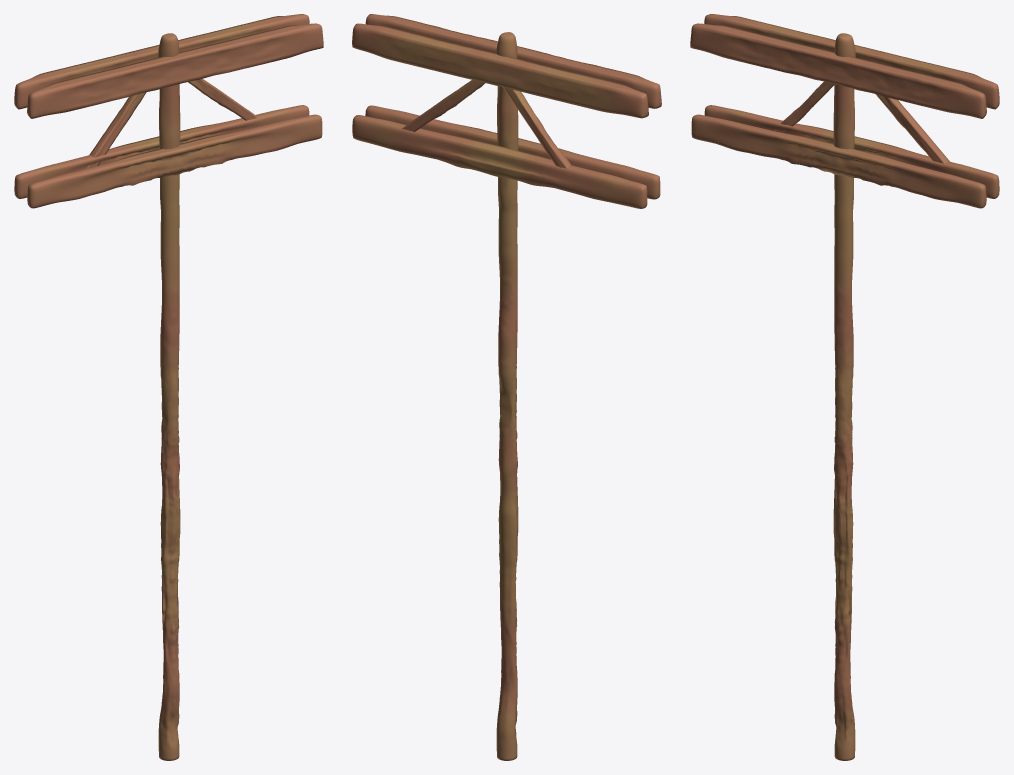
Rendered from Deii -.obj.
3 views of the same model, side by side, from view 1: azimuth 30°, elevation 25°; view 2: azimuth 150°, elevation 25°; view 3: azimuth 330°, elevation 25° (orthographic).
Parts seen in each view (by area): view 1: Front_1, Main, Top_1, Front; view 2: Back_1, Main, Top_1, Back, Top, Left_1; view 3: Front_1, Main, Top_1, Front.
Part boxes in pixels (<box>): Front_1: <box>18,16,323,208</box>; Main: <box>158,37,180,760</box>; Top_1: <box>16,14,320,187</box>; Front: <box>87,79,258,168</box>; Back_1: <box>352,18,655,208</box>; Main: <box>496,36,518,760</box>; Top_1: <box>353,14,659,188</box>; Back: <box>402,80,567,168</box>; Top: <box>440,83,571,168</box>; Left_1: <box>642,85,661,208</box>; Front_1: <box>690,16,995,208</box>; Main: <box>833,37,855,760</box>; Top_1: <box>693,14,997,187</box>; Front: <box>773,81,944,163</box>.
Bounding box in the file's own units: 2.56 × 6 × 0.3195.
Materials: 1 (1 with a texture image).
